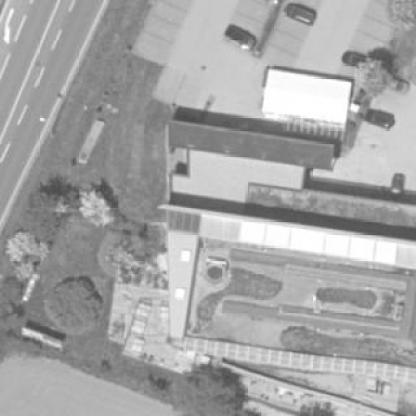solar-pv-panel: (183, 337, 416, 383), (166, 209, 201, 236)
